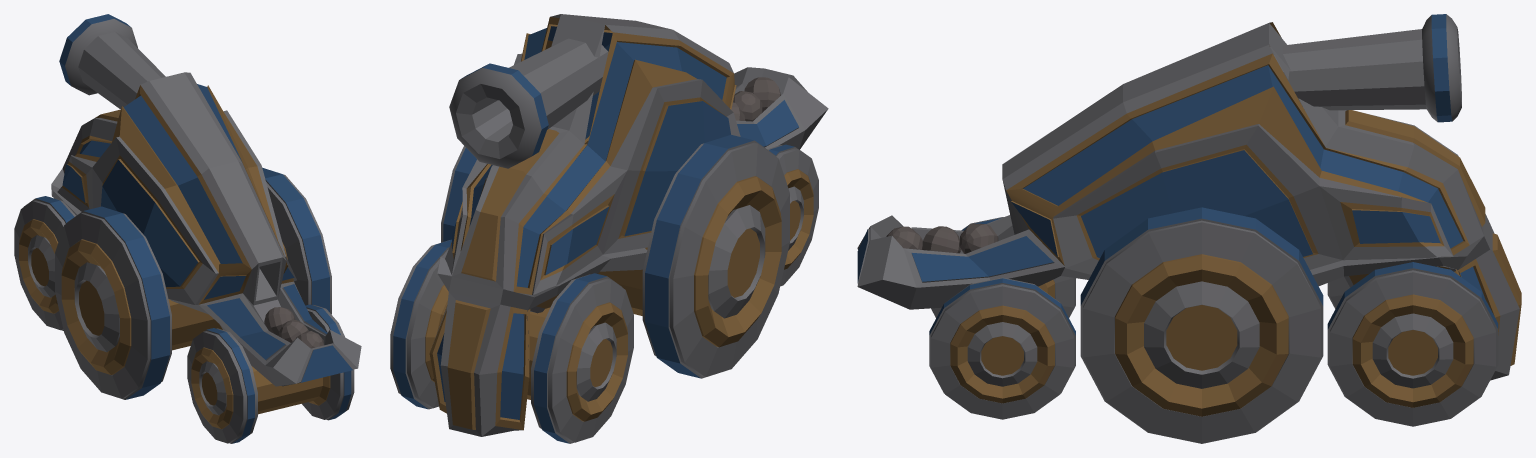
File: SiegeTankSmall.fbx
The picture shows the model from 3 angles, left to right: view 1: azimuth 30°, elevation 25°; view 2: azimuth 150°, elevation 25°; view 3: azimuth 270°, elevation 25°; orthographic projection. The views are drawn at different scales.
Visible parts, largest first — view 1: SiegeTankSmall; view 2: SiegeTankSmall; view 3: SiegeTankSmall.
Part boxes in pixels (left/top/right/bottom): SiegeTankSmall: left=14, top=14, right=361, bottom=443; SiegeTankSmall: left=390, top=14, right=828, bottom=443; SiegeTankSmall: left=857, top=14, right=1521, bottom=443.
Size of the model in its own units: 3.99 by 5.27 by 8.66.
